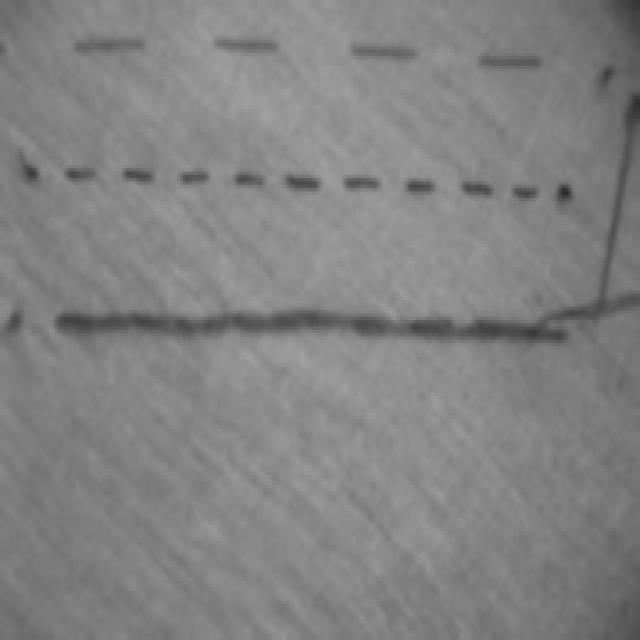stitch: (350, 42, 419, 61), (74, 36, 148, 53), (217, 37, 277, 52), (477, 53, 537, 68), (595, 55, 617, 93), (19, 150, 37, 181), (285, 175, 317, 190), (0, 33, 19, 57), (123, 167, 151, 183), (344, 177, 376, 190), (461, 182, 490, 196), (556, 182, 574, 203), (405, 179, 431, 193), (234, 174, 261, 186), (65, 171, 95, 181), (180, 174, 210, 184), (513, 185, 534, 199)
